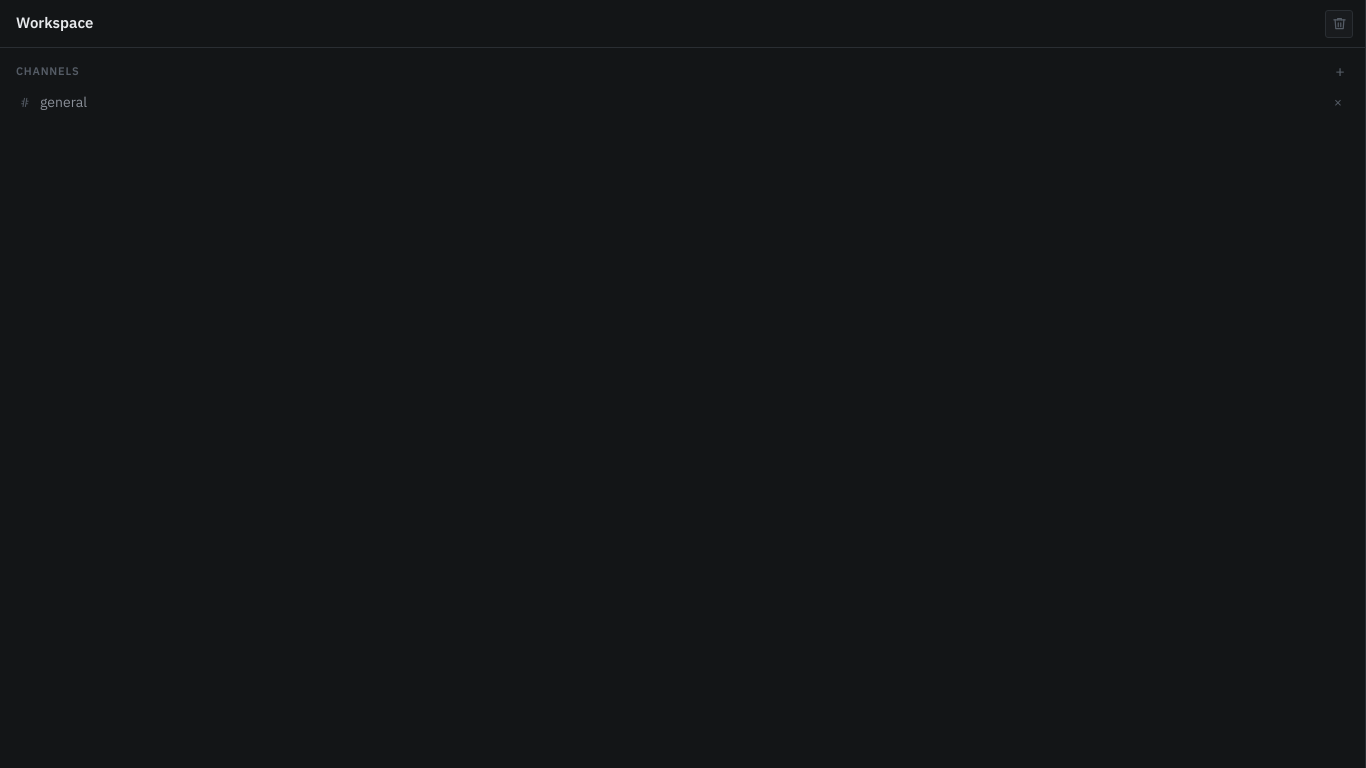
ChannelSidebar destructive actions › shows an owner-only delete community modal and confirms deletion
The image size is (1366, 768).
Step 1. Click the button with test id "community-delete-btn" → (1339, 24), box 1325,10 -> 1353,38
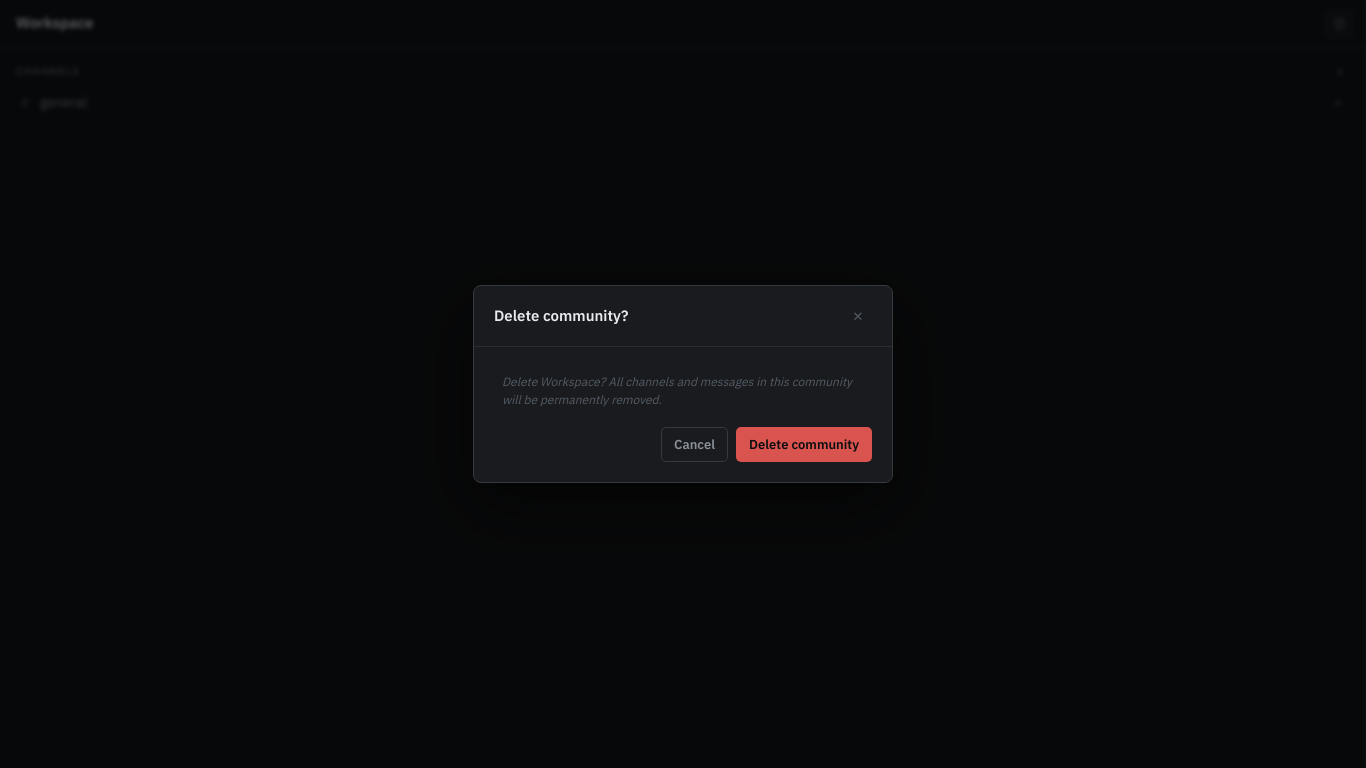
Check: the element with test id "community-delete-modal" is shown, box 494,367 -> 872,462
Check: the text "Delete Workspace? All channels and messages in this community will be permanently removed." is shown, box 494,367 -> 872,415
Step 2. Click the button with test id "community-delete-confirm" → (804, 444), box 736,427 -> 872,462
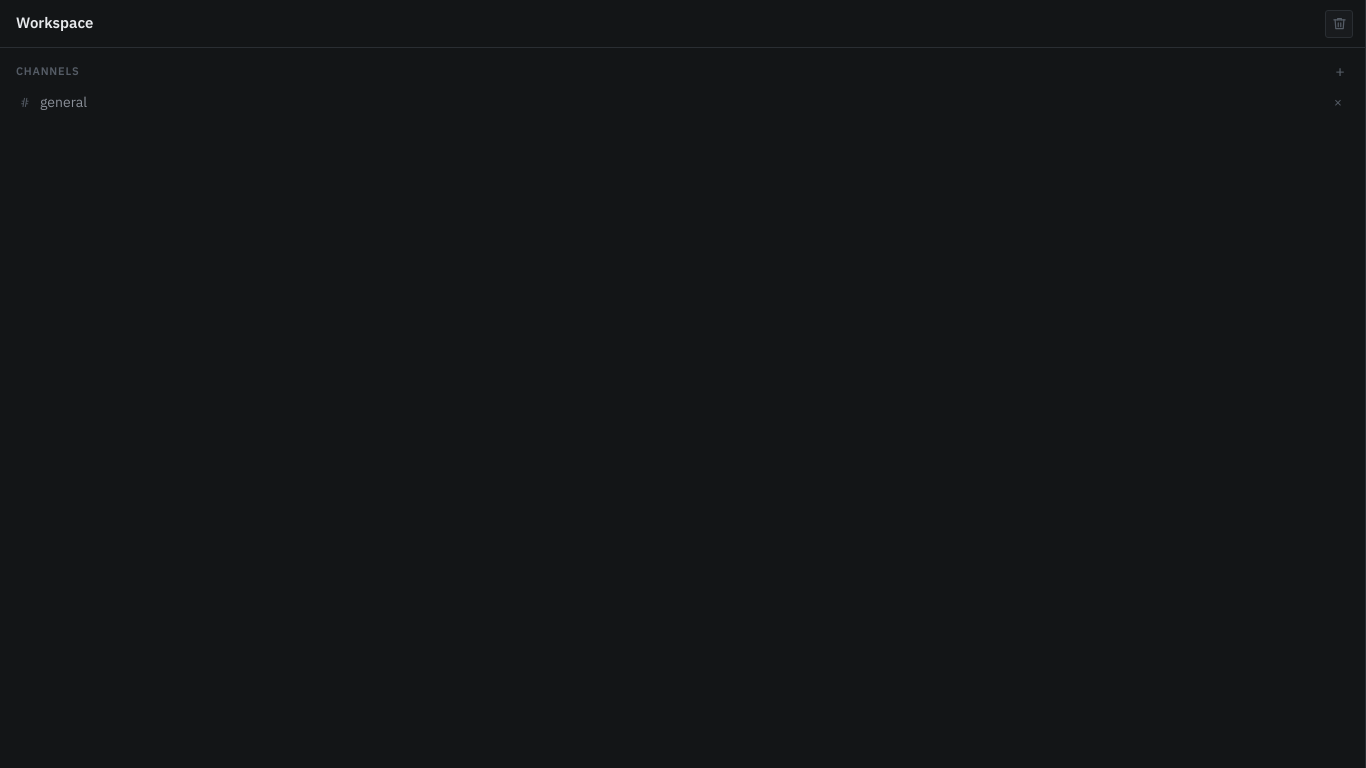
Check: the element with test id "community-delete-modal" is gone
